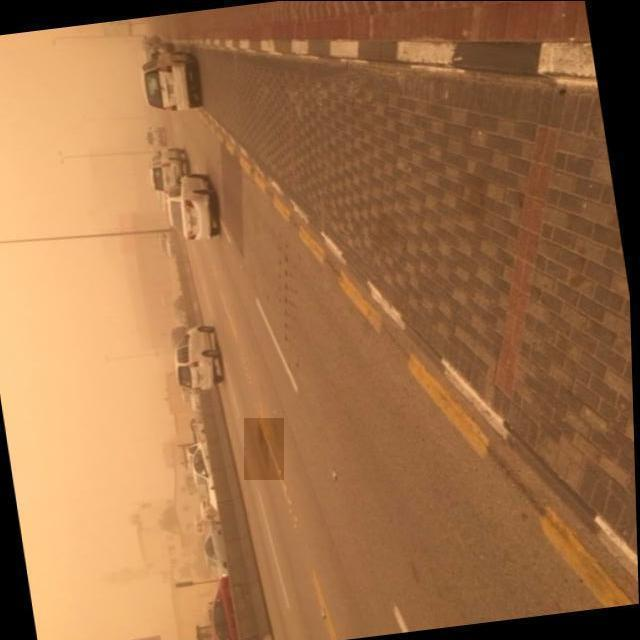Pothole: (244, 418, 284, 480)
